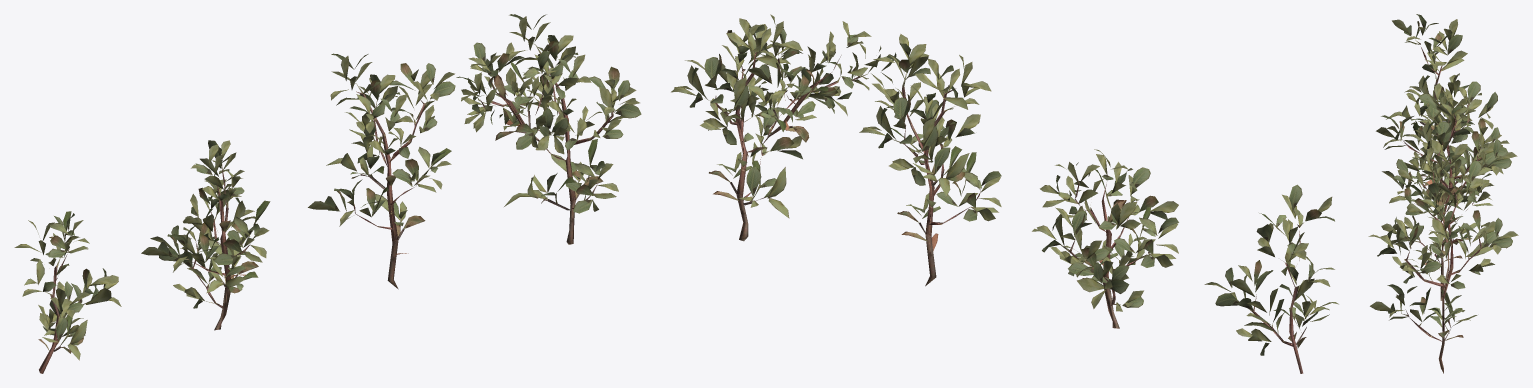
File: ph_shrub_04.glb
3 renders of one model, left to right at view 1: azimuth 30°, elevation 25°; view 2: azimuth 150°, elevation 25°; view 3: azimuth 270°, elevation 25°, orthographic. The views are drawn at different scales.
Parts seen in each view (by area): view 1: shrub_04; view 2: shrub_04; view 3: shrub_04.
Part boxes in pixels (box(x1,y1,x2,y2)): shrub_04: box(14, 14, 641, 373); shrub_04: box(671, 14, 1338, 373); shrub_04: box(1368, 14, 1518, 373).
Bounding box in the file's own units: 0.5837 × 0.2185 × 0.1461.
1 material, 1 textured.
